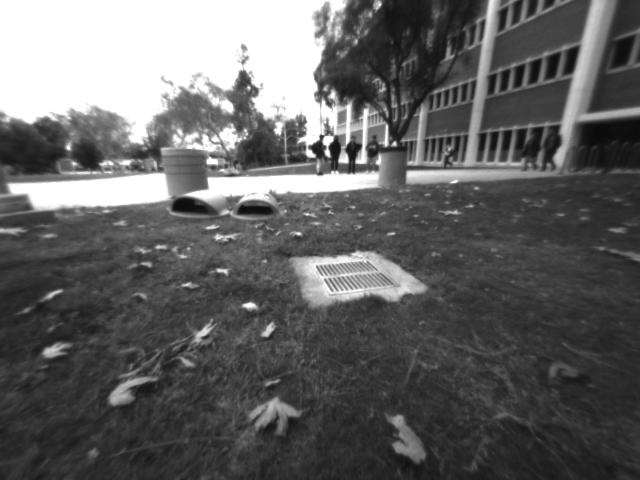trashcan: (163, 146, 206, 204), (372, 148, 409, 191)
